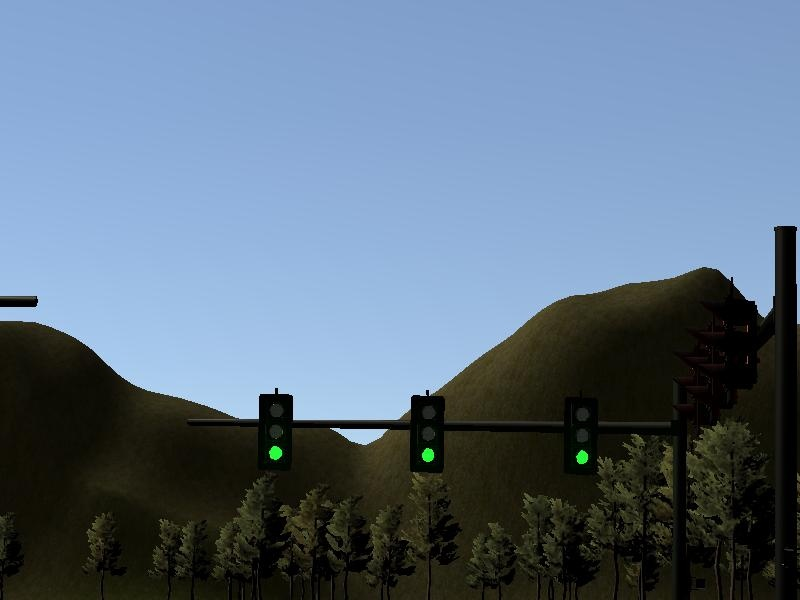GREEN: (558, 394, 602, 483), (407, 392, 449, 473), (256, 389, 295, 475)
